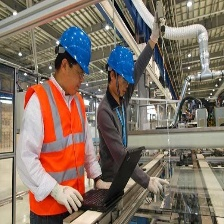helmet: (55, 27, 94, 77), (105, 44, 139, 86)
no-vest: (98, 90, 128, 161)
person: (17, 26, 95, 222), (97, 44, 138, 201)
vest: (31, 79, 87, 212)
